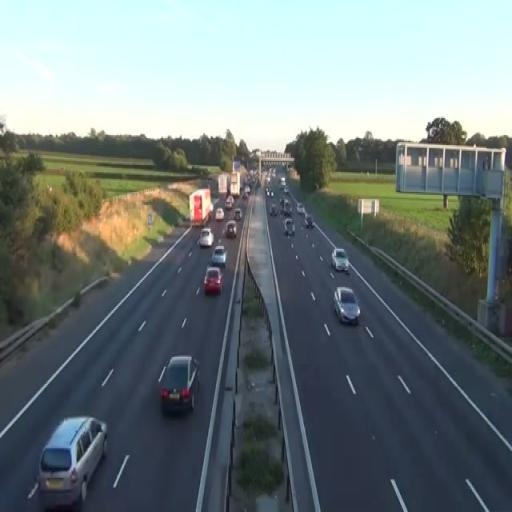Car: (38, 414, 108, 508), (159, 354, 200, 415), (334, 286, 360, 326), (204, 267, 224, 295), (331, 248, 350, 273), (211, 244, 227, 268), (198, 228, 214, 248), (226, 221, 236, 238), (215, 208, 224, 220), (234, 208, 242, 220)
Truck: (189, 188, 212, 226)
